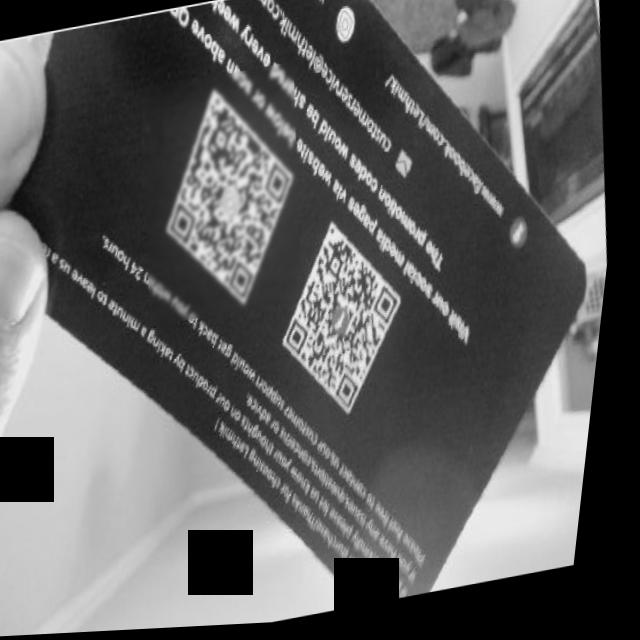QR_CODE: (124, 63, 329, 331), (263, 202, 450, 470)
